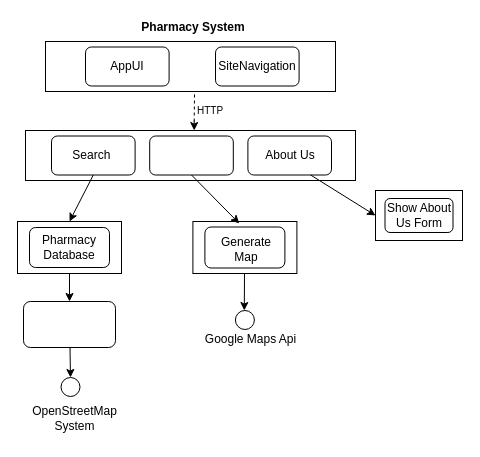
Some shapes in this 480 by 457 pixel diagram are drawn without their labels. Here are the shapes that lost their labels. From the top down, the centre of each, then its label:
At (191,155): "Pharmacy Map".
At (69,324): "GeoInformation Manager".
